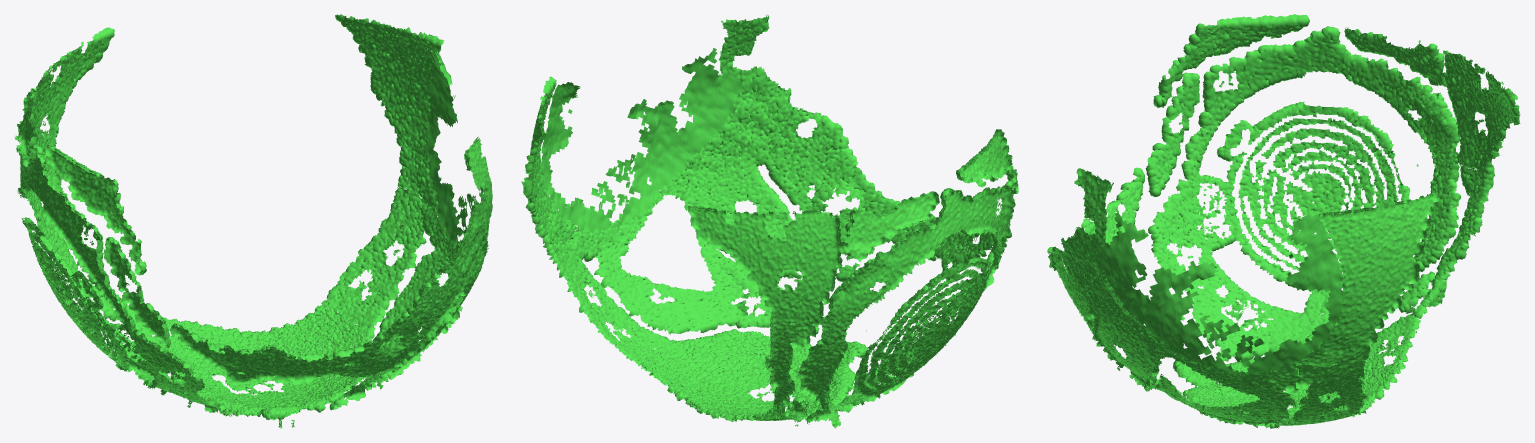
The model's file is trees.fbx.
3 views of the same model, side by side, from view 1: azimuth 30°, elevation 25°; view 2: azimuth 150°, elevation 25°; view 3: azimuth 270°, elevation 25° (orthographic).
Parts seen in each view (by area): view 1: Tree_shadow.006, Trees_layer.012, Tree_shadow.003, Trees_layer, Trees_layer.003, Trees_layer.010, Tree_shadow.007, Trees_layer.007, Tree_shadow.002, Trees_layer.006, Trees_layer.001, Trees_layer.011 (+5 smaller); view 2: Trees_layer.006, Tree_shadow.003, Trees_layer.011, Trees_layer.004, Tree_shadow.002, Tree_shadow.007, Trees_layer.010, Trees_layer, Trees_layer.001, Trees_layer.003, Trees_layer.005, Trees_layer.012 (+9 smaller); view 3: Trees_layer.003, Trees_layer.007, Trees_layer.002, Tree_shadow, Tree_shadow.006, Tree_shadow.004, Tree_shadow.005, Tree_shadow.011, Tree_shadow.001, Trees_layer.006, Tree_shadow.002, Trees_layer.008 (+10 smaller).
Boxes of the visible parts, left/top/right/bottom form: Tree_shadow.006: left=171, top=138, right=490, bottom=399; Trees_layer.012: left=335, top=14, right=444, bottom=207; Tree_shadow.003: left=15, top=32, right=142, bottom=296; Trees_layer: left=321, top=187, right=438, bottom=338; Trees_layer.003: left=14, top=27, right=146, bottom=297; Trees_layer.010: left=285, top=305, right=371, bottom=412; Tree_shadow.007: left=30, top=172, right=230, bottom=416; Trees_layer.007: left=31, top=169, right=232, bottom=416; Tree_shadow.002: left=22, top=219, right=149, bottom=374; Trees_layer.006: left=170, top=136, right=488, bottom=401; Trees_layer.001: left=193, top=346, right=334, bottom=406; Trees_layer.011: left=329, top=213, right=459, bottom=410; Trees_layer.006: left=661, top=14, right=995, bottom=281; Tree_shadow.003: left=689, top=131, right=1018, bottom=326; Trees_layer.011: left=577, top=191, right=819, bottom=334; Trees_layer.004: left=606, top=48, right=742, bottom=227; Tree_shadow.002: left=852, top=251, right=997, bottom=405; Tree_shadow.007: left=756, top=222, right=1010, bottom=427; Trees_layer.010: left=641, top=329, right=811, bottom=390; Trees_layer: left=549, top=227, right=669, bottom=365; Trees_layer.001: left=699, top=354, right=840, bottom=414; Trees_layer.003: left=688, top=129, right=1018, bottom=327; Trees_layer.005: left=542, top=83, right=615, bottom=233; Trees_layer.012: left=521, top=76, right=579, bottom=255; Trees_layer.003: left=1153, top=14, right=1520, bottom=176; Trees_layer.007: left=1145, top=130, right=1493, bottom=361; Trees_layer.002: left=1197, top=101, right=1417, bottom=313; Tree_shadow: left=1296, top=193, right=1438, bottom=365; Tree_shadow.006: left=1048, top=169, right=1175, bottom=385; Tree_shadow.004: left=1093, top=213, right=1241, bottom=374; Tree_shadow.005: left=1235, top=214, right=1343, bottom=374; Tree_shadow.011: left=1145, top=353, right=1300, bottom=425; Tree_shadow.001: left=1278, top=360, right=1365, bottom=427; Trees_layer.006: left=1047, top=167, right=1175, bottom=386; Tree_shadow.002: left=1198, top=103, right=1418, bottom=314; Trees_layer.008: left=1333, top=336, right=1412, bottom=414.
Size of the model in its own units: 247530 by 167480 by 242560.
